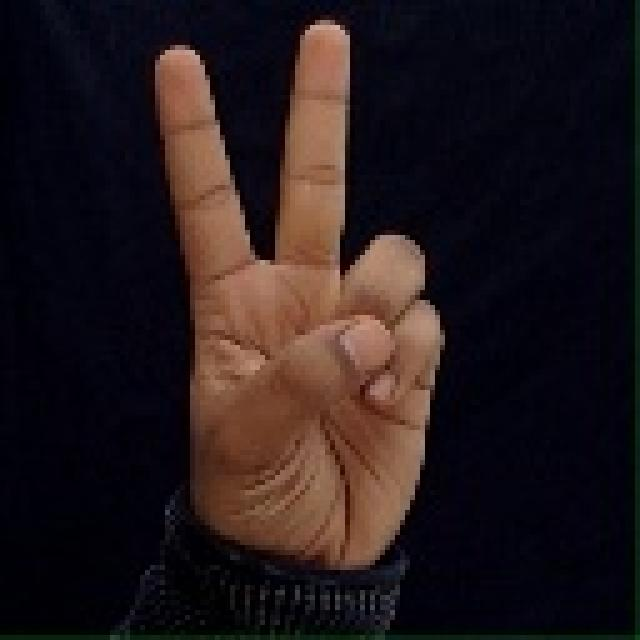Numeric-2: (150, 13, 444, 594)
